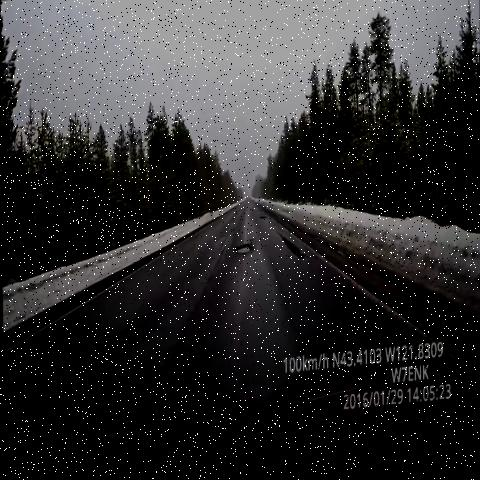pothole: (276, 232, 310, 279), (230, 236, 256, 265), (255, 211, 269, 235)
